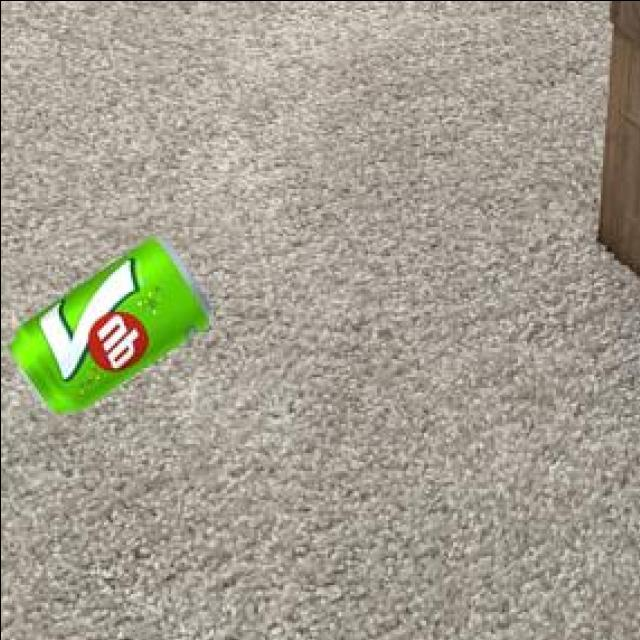logam: (10, 236, 214, 411)
